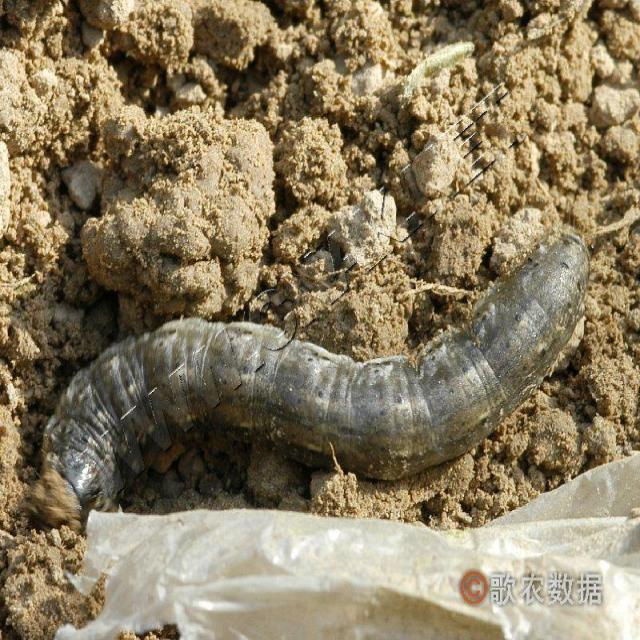black cutworm: (34, 226, 600, 560)
